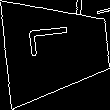L_E: (31, 31, 82, 67)
